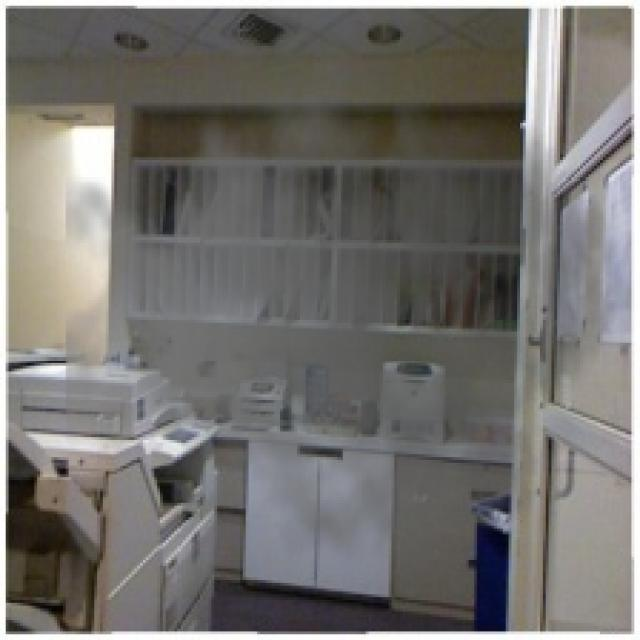Smoke: (65, 26, 618, 583)
